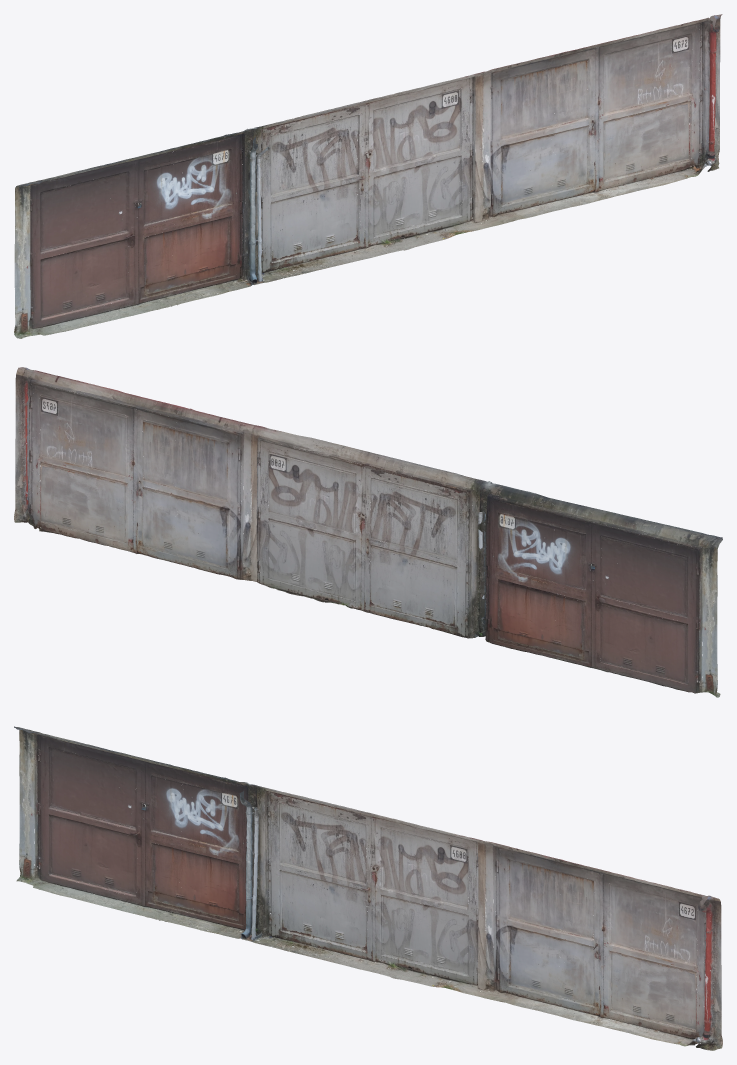
File: sf-dirty-metal-garage-doors-04d7e0.glb
The picture shows the model from 3 angles, top to bottom: view 1: azimuth 30°, elevation 25°; view 2: azimuth 150°, elevation 25°; view 3: azimuth 330°, elevation 25°; orthographic projection.
Parts seen in each view (by area): view 1: garage_garage_u2_v1_0, garage_garage_u1_v1_0; view 2: garage_garage_u2_v1_0, garage_garage_u1_v1_0; view 3: garage_garage_u2_v1_0, garage_garage_u1_v1_0.
Boxes of the visible parts, x1,y1,x2,y2 form: garage_garage_u2_v1_0: [29, 23, 719, 328]; garage_garage_u1_v1_0: [14, 14, 722, 338]; garage_garage_u2_v1_0: [22, 381, 703, 693]; garage_garage_u1_v1_0: [14, 367, 722, 697]; garage_garage_u2_v1_0: [33, 734, 714, 1039]; garage_garage_u1_v1_0: [14, 726, 722, 1050].
Size of the model in its own units: 8.7 by 1.85 by 0.3125.
Materials: 2 (2 with a texture image).
